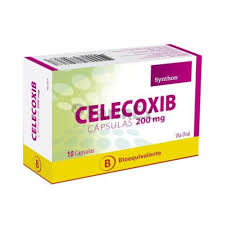Celecoxip: (77, 95, 173, 125)
